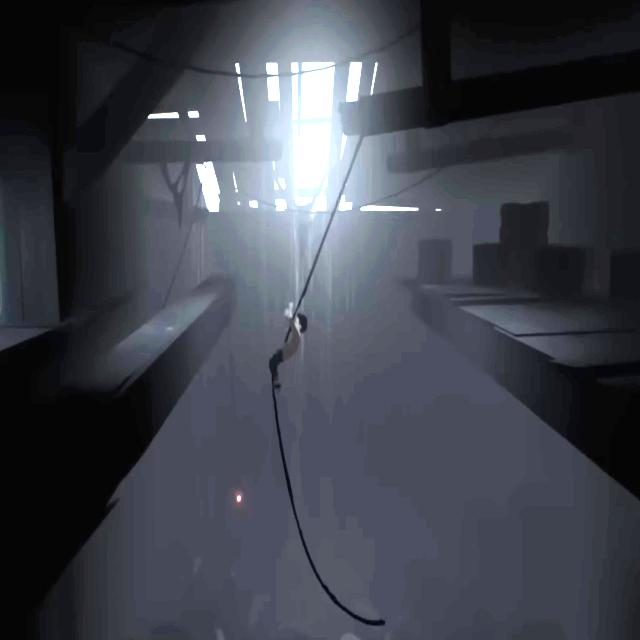boy: (269, 302, 307, 388)
